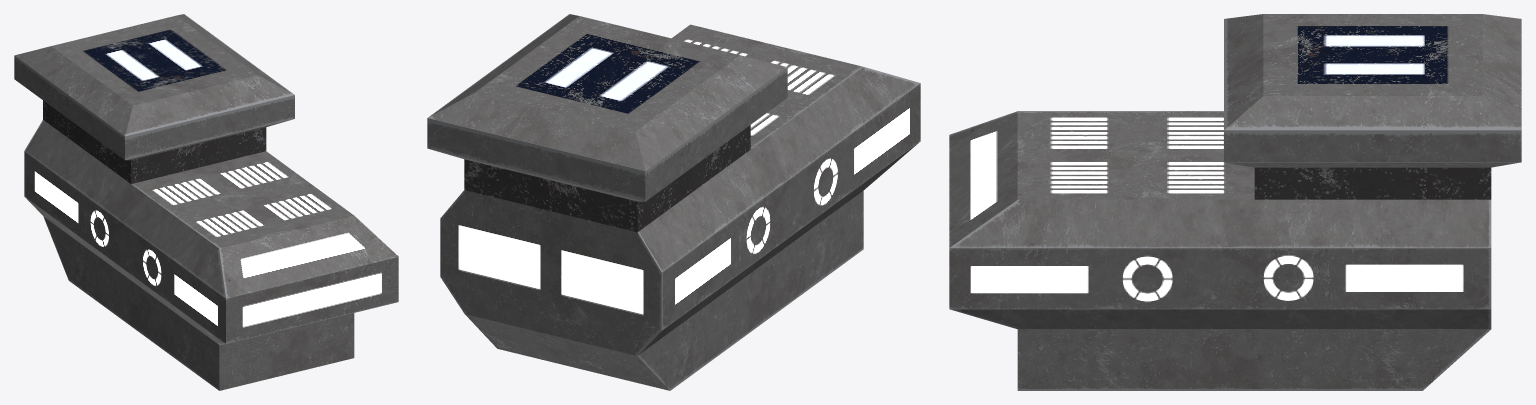
The model's file is bridge_m_2.fbx.
The picture shows the model from 3 angles, left to right: view 1: azimuth 30°, elevation 25°; view 2: azimuth 150°, elevation 25°; view 3: azimuth 270°, elevation 25°; orthographic projection. The views are drawn at different scales.
Parts seen in each view (by area): view 1: bridge_m_2; view 2: bridge_m_2; view 3: bridge_m_2.
Boxes of the visible parts, x1,y1,x2,y2 form: bridge_m_2: (14,14,398,390); bridge_m_2: (427,14,920,390); bridge_m_2: (949,14,1521,390).
Bounding box in the file's own units: 7.81 × 9.39 × 16.7.
